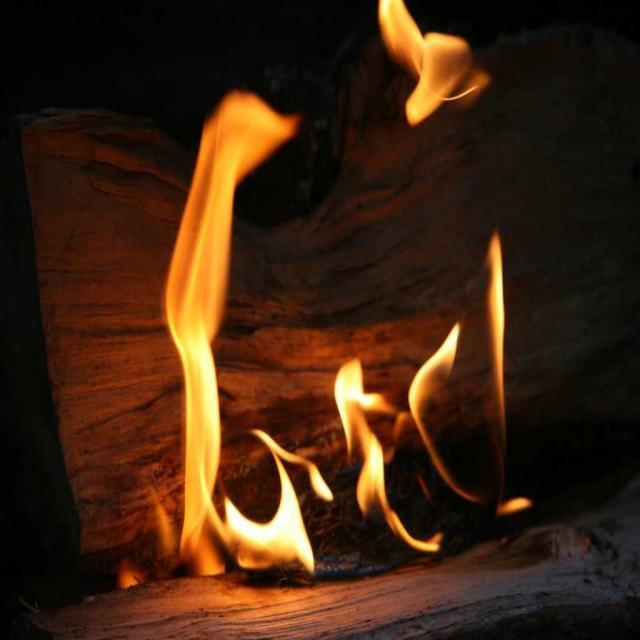Fire: (182, 136, 238, 332), (187, 354, 216, 554), (410, 31, 467, 106), (249, 522, 301, 575), (340, 372, 370, 438), (360, 448, 388, 514)
